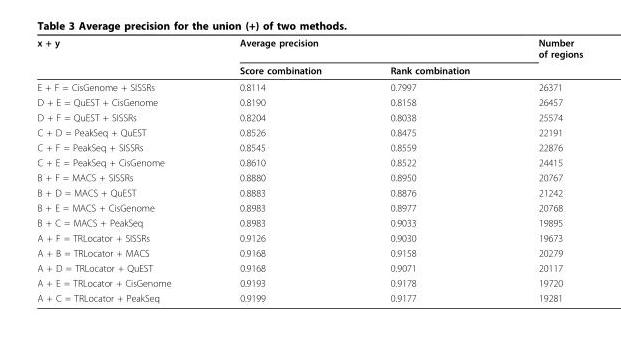table: (36, 36, 582, 303)
table column: (36, 36, 204, 303), (204, 36, 355, 303), (355, 36, 503, 303), (503, 36, 582, 303)
table column header: (36, 36, 582, 78)
table row: (36, 36, 582, 61), (36, 61, 582, 78), (36, 78, 582, 94), (36, 214, 582, 230), (36, 94, 582, 109), (36, 109, 582, 124), (36, 124, 582, 139), (36, 139, 582, 154), (36, 154, 582, 169), (36, 169, 582, 184), (36, 184, 582, 199), (36, 199, 582, 214), (36, 230, 582, 245), (36, 245, 582, 260), (36, 260, 582, 275), (36, 275, 582, 290), (36, 290, 582, 303)
table spanning cell: (204, 36, 503, 61), (36, 36, 204, 78), (503, 36, 582, 78)
